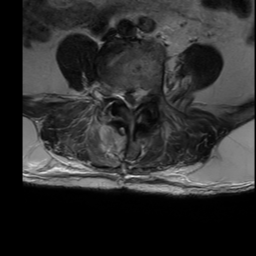CCS_normal: (127, 81, 136, 118)
LFS_normal: (145, 80, 154, 107)
LLS_normal: (136, 81, 145, 113)
RFS_normal: (110, 79, 119, 106)
RLS_normal: (119, 80, 127, 110)
